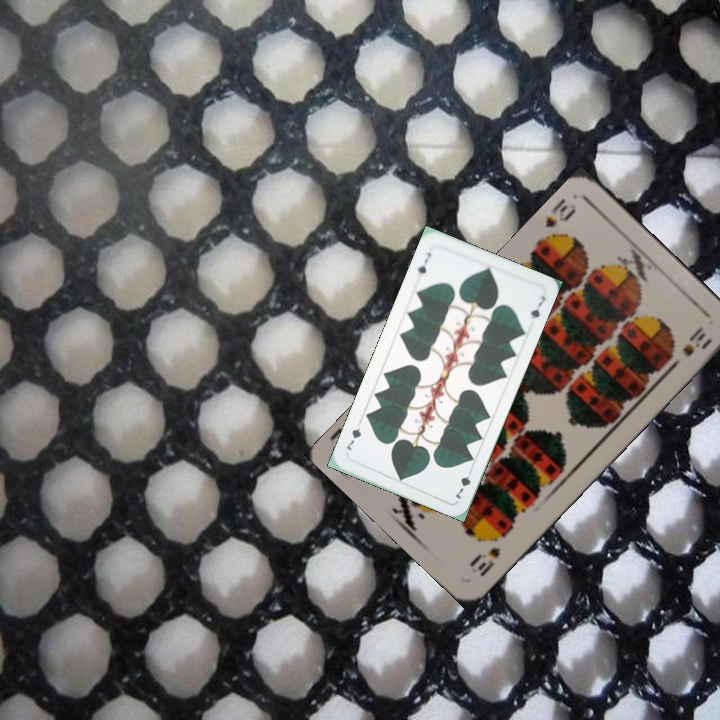G7: (452, 464, 475, 501), (413, 248, 433, 282)
S10: (536, 195, 579, 244), (466, 543, 503, 579)
